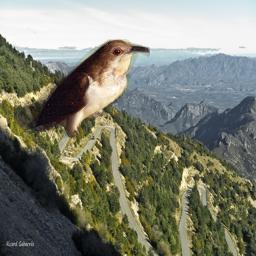Cuckoo: (14, 39, 150, 138)
